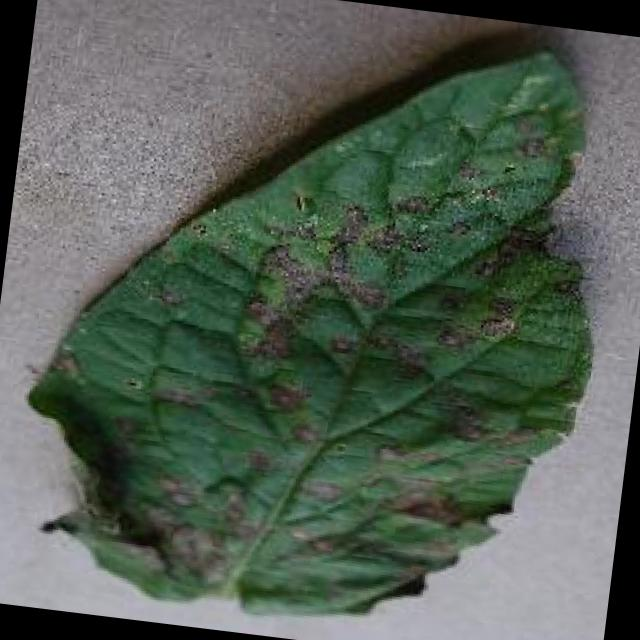Tomato_Early_Blight: (143, 105, 580, 622)
